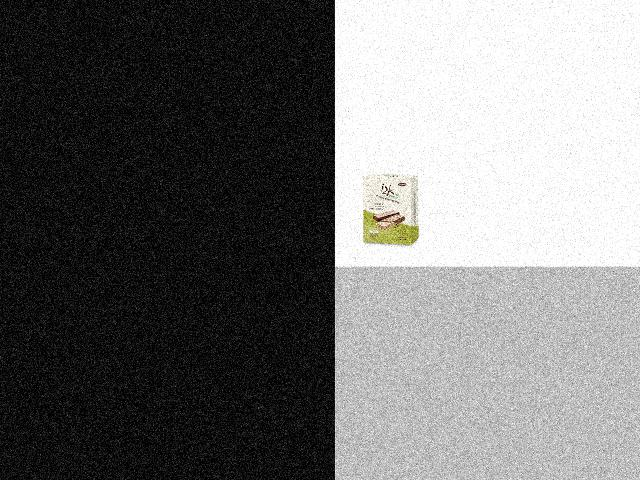chocolate: (356, 172, 422, 248)
